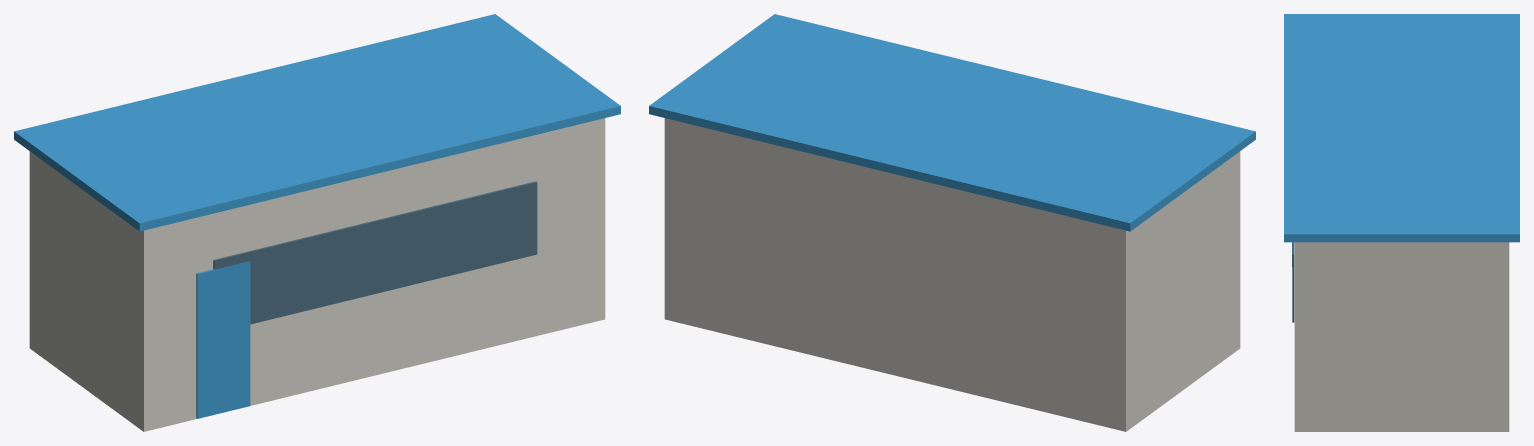
Rendered from stock-car-oval-speedway-press-box-7d1fdd22__16931.glb.
3 views of the same model, side by side, from view 1: azimuth 30°, elevation 25°; view 2: azimuth 150°, elevation 25°; view 3: azimuth 270°, elevation 25° (orthographic). The views are drawn at different scales.
Parts seen in each view (by area): view 1: press-box; view 2: press-box; view 3: press-box.
Boxes of the visible parts, <box> form: press-box: <box>14,14,620,431</box>; press-box: <box>649,14,1255,431</box>; press-box: <box>1284,14,1519,431</box>.
Bounding box in the file's own units: 7.3 × 3.12 × 3.3.
